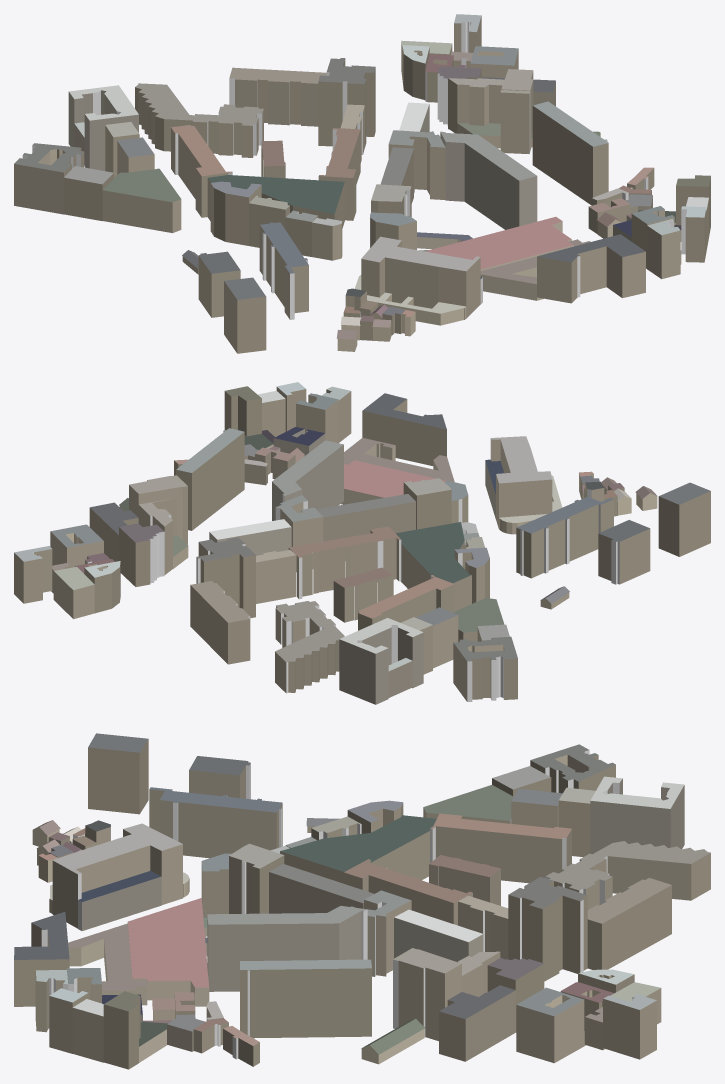
The picture shows the model from 3 angles, top to bottom: view 1: azimuth 30°, elevation 25°; view 2: azimuth 150°, elevation 25°; view 3: azimuth 270°, elevation 25°; orthographic projection. The views are drawn at different scales.
Visible parts, largest first — view 1: tuile; view 2: tuile; view 3: tuile.
Boxes of the visible parts, x1,y1,x2,y2 form: tuile: (14,14,710,353); tuile: (14,382,710,704); tuile: (14,733,710,1069).
Bounding box in the file's own units: 276 × 36.73 × 291.
